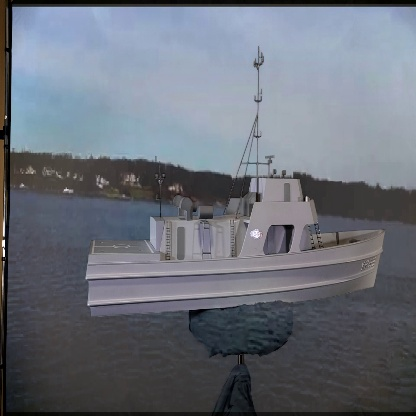YP689: (87, 44, 385, 317)
